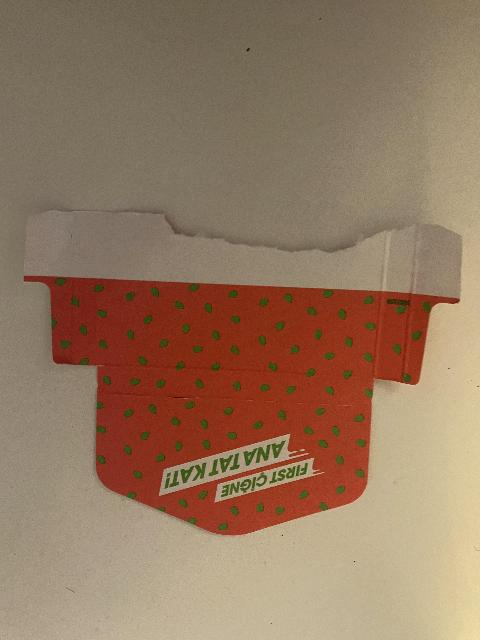Kagit: (21, 200, 471, 543)
